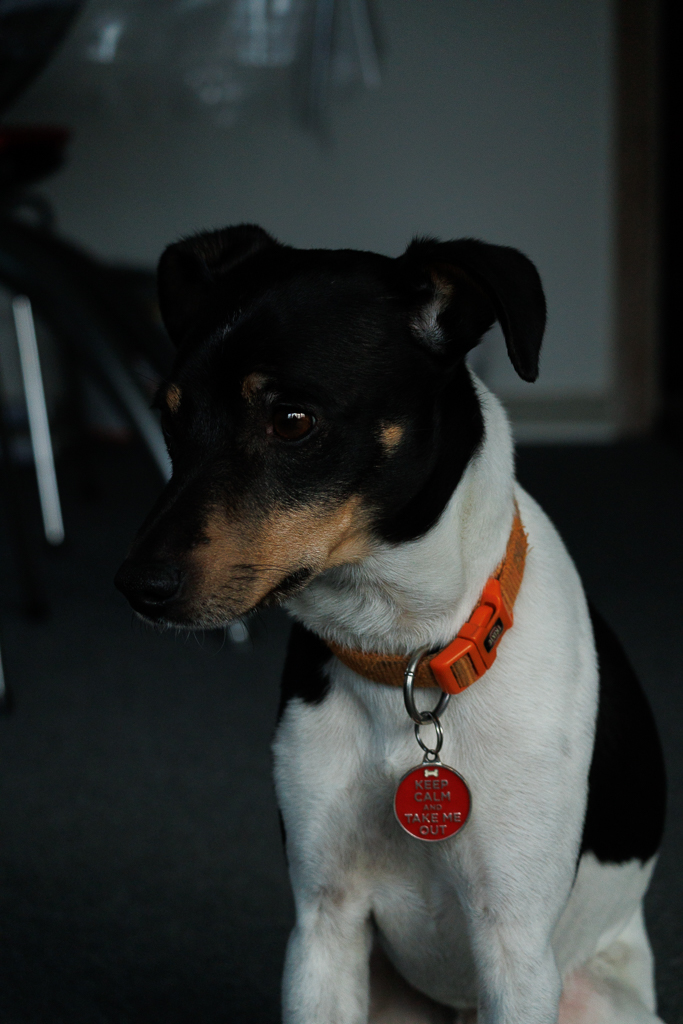Dog: (110, 201, 683, 1024)
